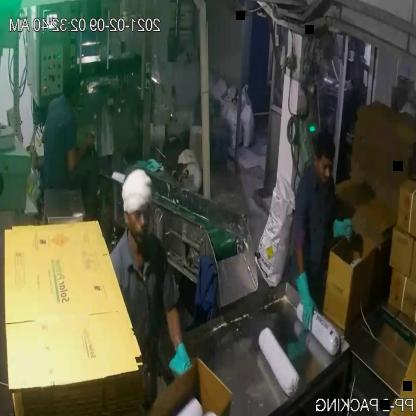glove: (164, 337, 204, 391), (289, 272, 323, 334), (327, 216, 359, 247)
no_glove: (60, 127, 104, 175)
